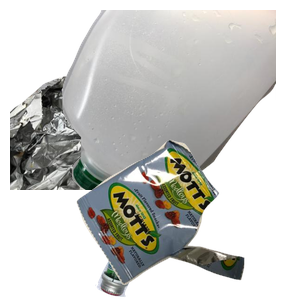glass: (93, 143, 284, 300)
metal: (10, 73, 212, 253)
plastic: (60, 10, 300, 190)
trash: (74, 137, 300, 300)
